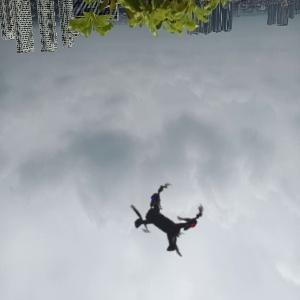drone: (99, 156, 229, 286)
